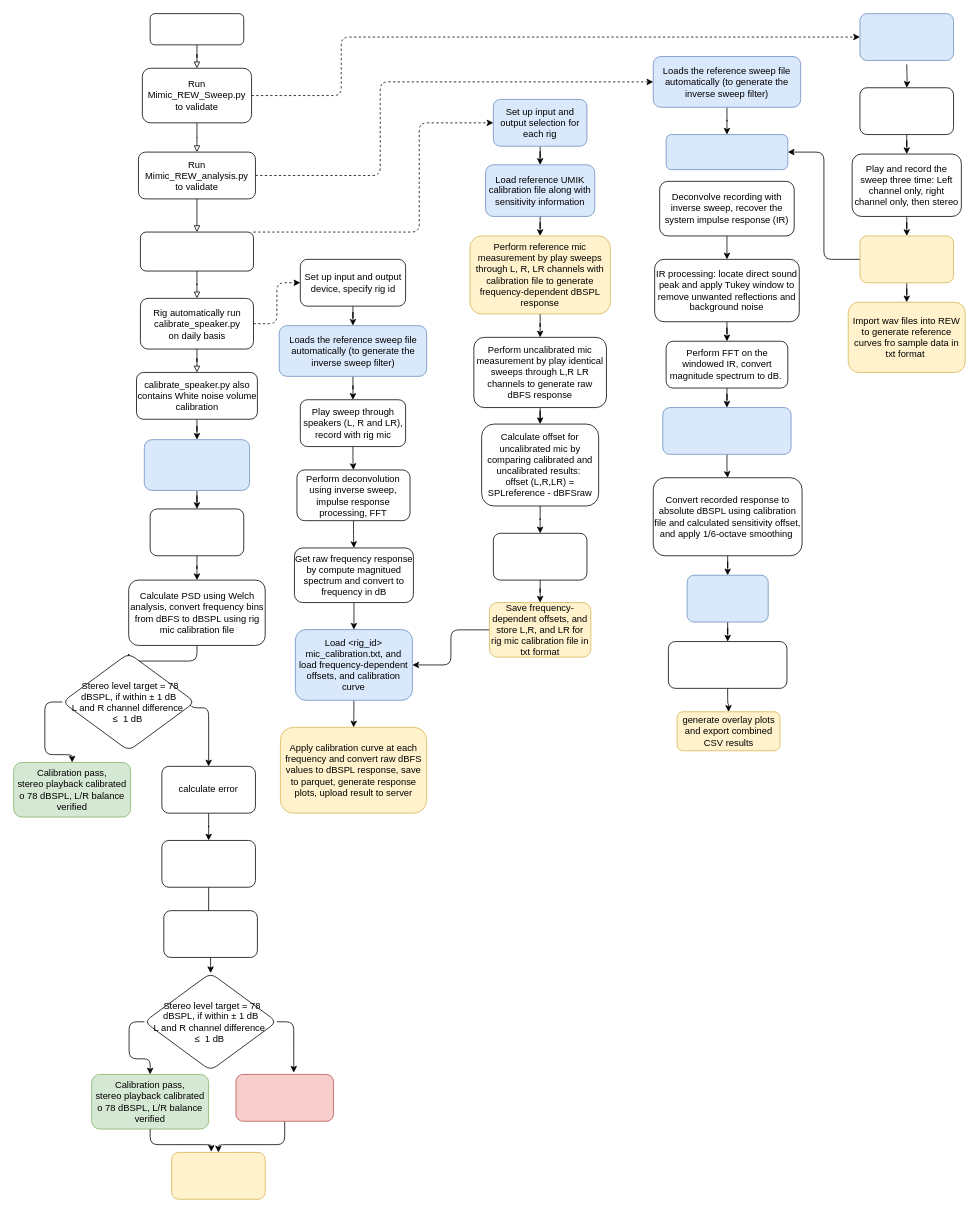
Some shapes in this 979 by 1213 pixel diagram are drawn without their labels. Each missing label, with the centre of its shape:
"Automatic volume adjustment using pactl" belongs at (x=208, y=863).
"Choose output and input devices from the list" belongs at (x=906, y=111).
"Compare calculated response with REW export" belongs at (x=727, y=664).
"generate white-noise stimulus that match the MATLAB playback behaviour" belongs at (x=197, y=464).
"Loads the captured recordings (.wav) from data" belongs at (x=726, y=152).
"Loads the reference sweep file(.wav) generated by REW" belongs at (x=906, y=36).
"Loads the REW analysed txt file" belongs at (x=727, y=598).
"Loads the UMIK-1 (calibrated mic) calibration file" belongs at (x=726, y=430).
"playback sequence: stereo (L+R), L only then R only, record rig mic response" belongs at (x=196, y=532).
"Repeat until 78 ±1 achieved, maximum attempt = 3" belongs at (x=284, y=1097).
"Replay white-noise sequence" belongs at (x=210, y=933).
"Result will be logged to database" belongs at (x=218, y=1175).
"Run calibrate_mic.py once when installing rig" belongs at (x=197, y=251).
"Start" belongs at (x=196, y=29).
"To convert rig mic reading: SPL(f) = dBFS(f) + offset(f)" belongs at (x=540, y=556).
"Writes three recordings to data file in wav format" belongs at (x=906, y=259).
